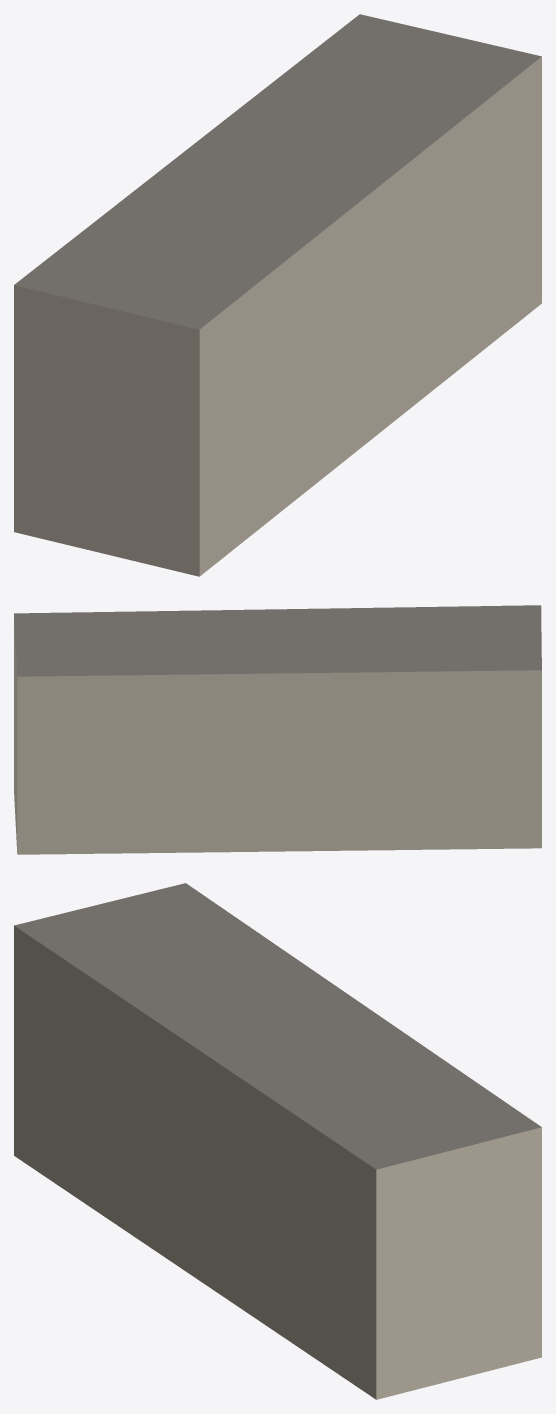
The picture shows the model from 3 angles, top to bottom: view 1: azimuth 30°, elevation 25°; view 2: azimuth 150°, elevation 25°; view 3: azimuth 270°, elevation 25°; orthographic projection. The views are drawn at different scales.
Parts seen in each view (by area): view 1: HP-w505633393; view 2: HP-w505633393; view 3: HP-w505633393.
Boxes of the visible parts, x1=… form: HP-w505633393: x1=14, y1=14, x2=541, y2=576; HP-w505633393: x1=14, y1=605, x2=541, y2=854; HP-w505633393: x1=14, y1=883, x2=541, y2=1399.
Bounding box in the file's own units: 48.05 × 18 × 37.41.
